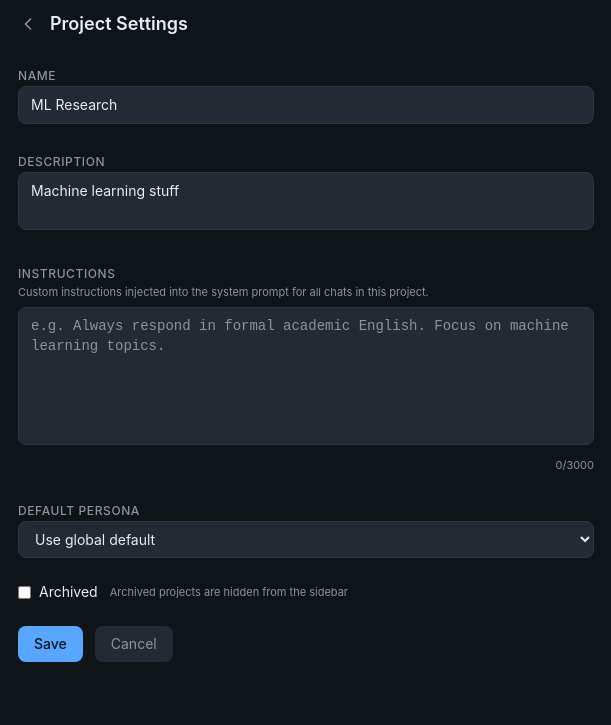
Scenario: ProjectSettings › empty name shows error on save attempt
Clear the field showing "ML Research". click: (306, 105)
box: x1=18 y1=86 x2=594 y2=124
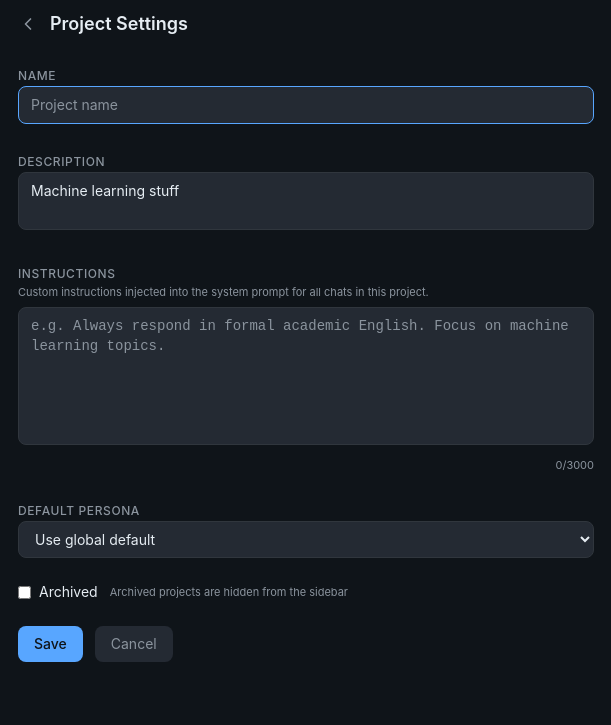
Click the button "Save". click: click(50, 644)
box: x1=18 y1=626 x2=83 y2=662
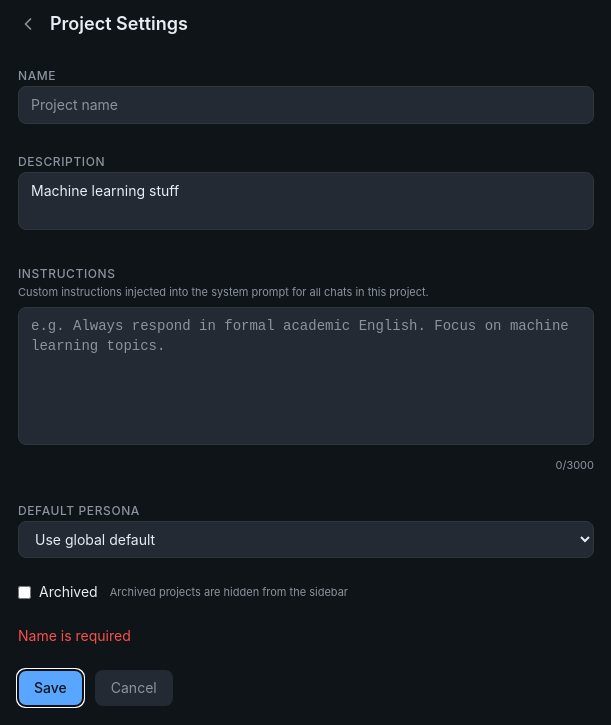
Now the text "Name is required" is shown, box x1=18 y1=627 x2=131 y2=644
